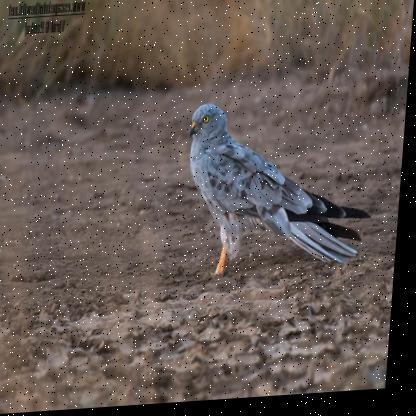Burung: (182, 97, 376, 285)
